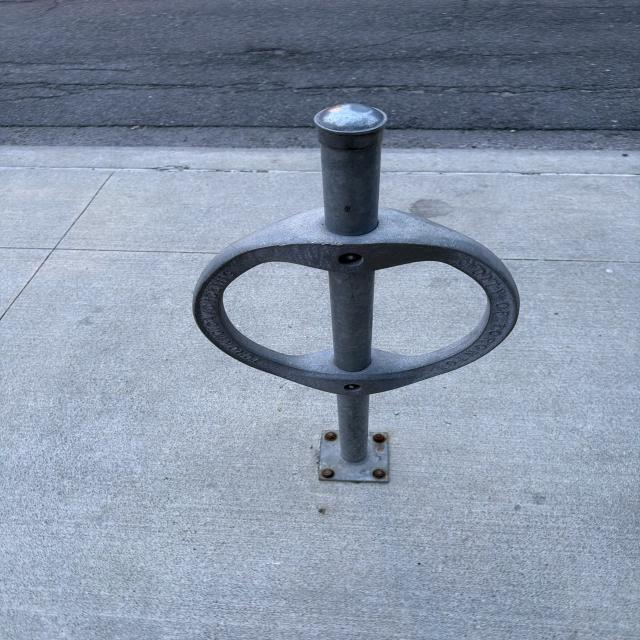Bicycle Rack: (190, 106, 522, 482)
